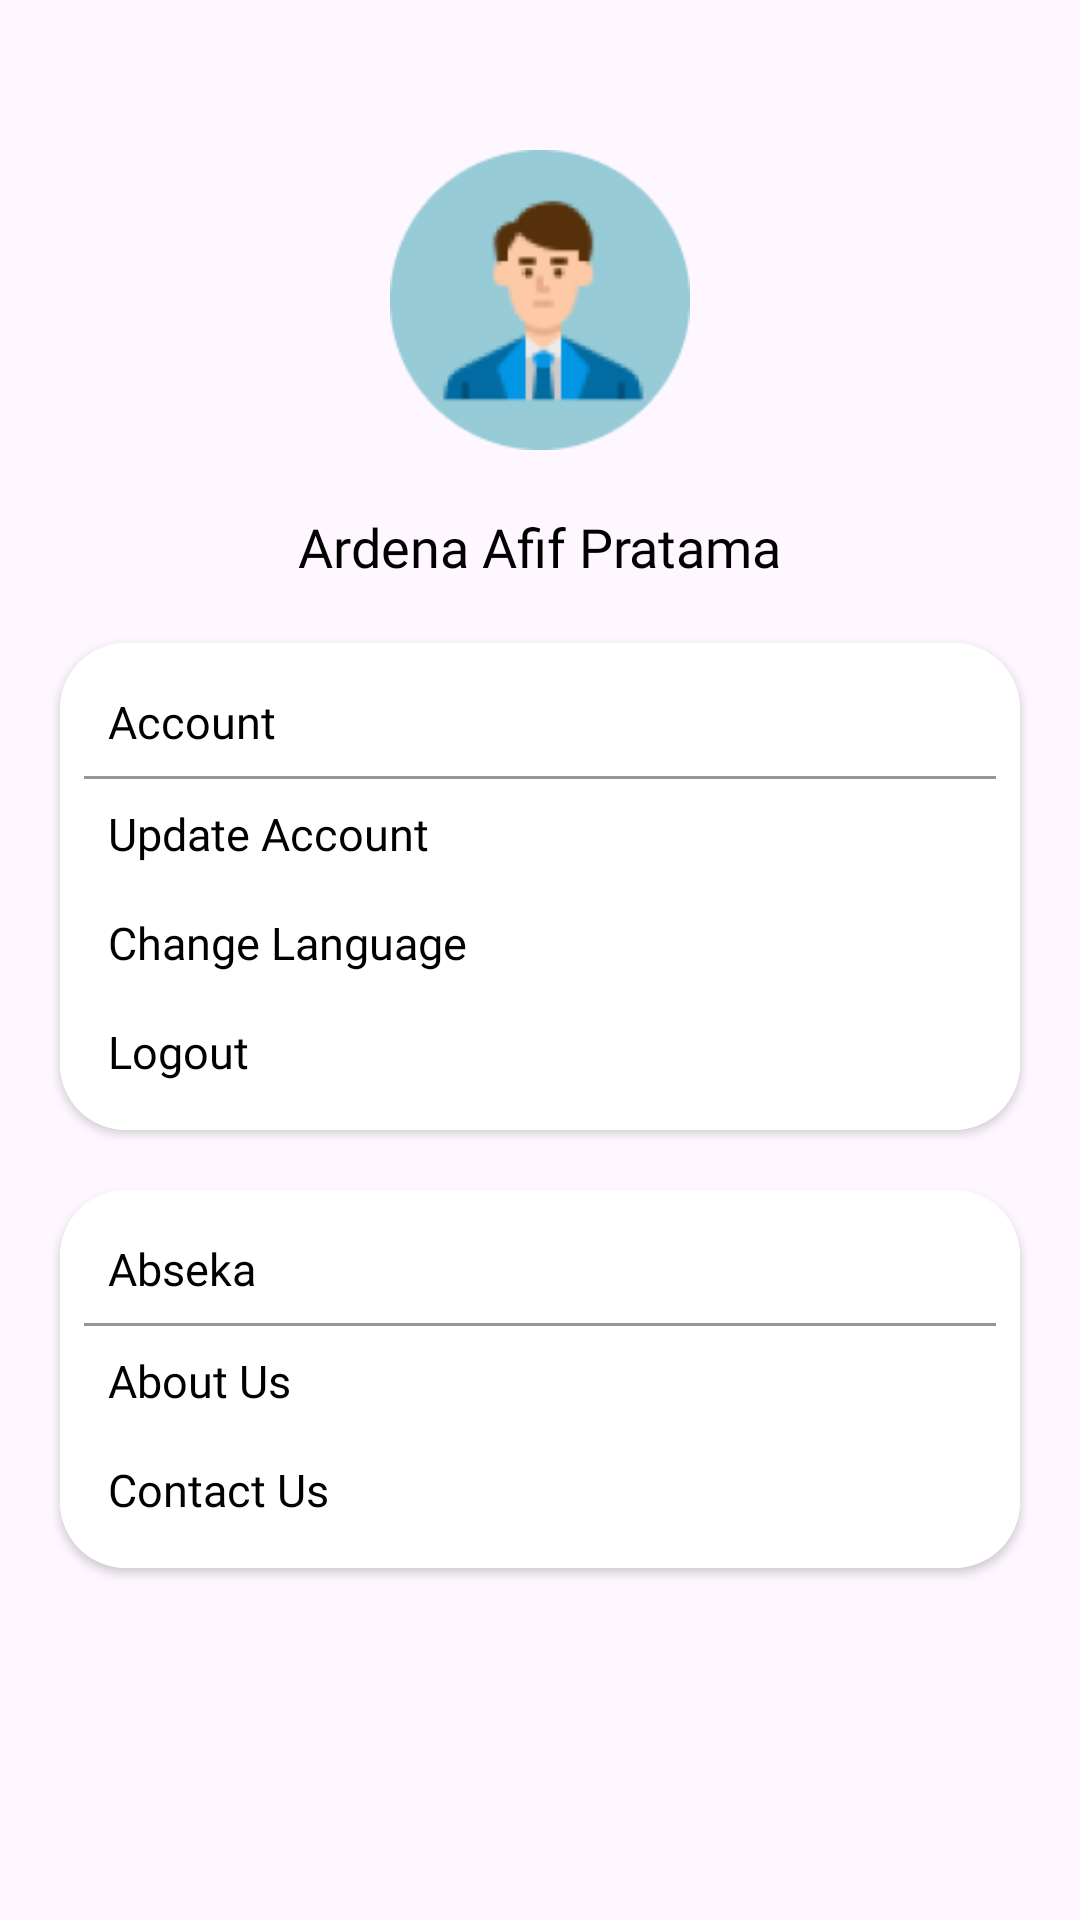

Where to tap for icons on this 1080*1920 app screen, as point (x, y):
user me: point (540, 300)
